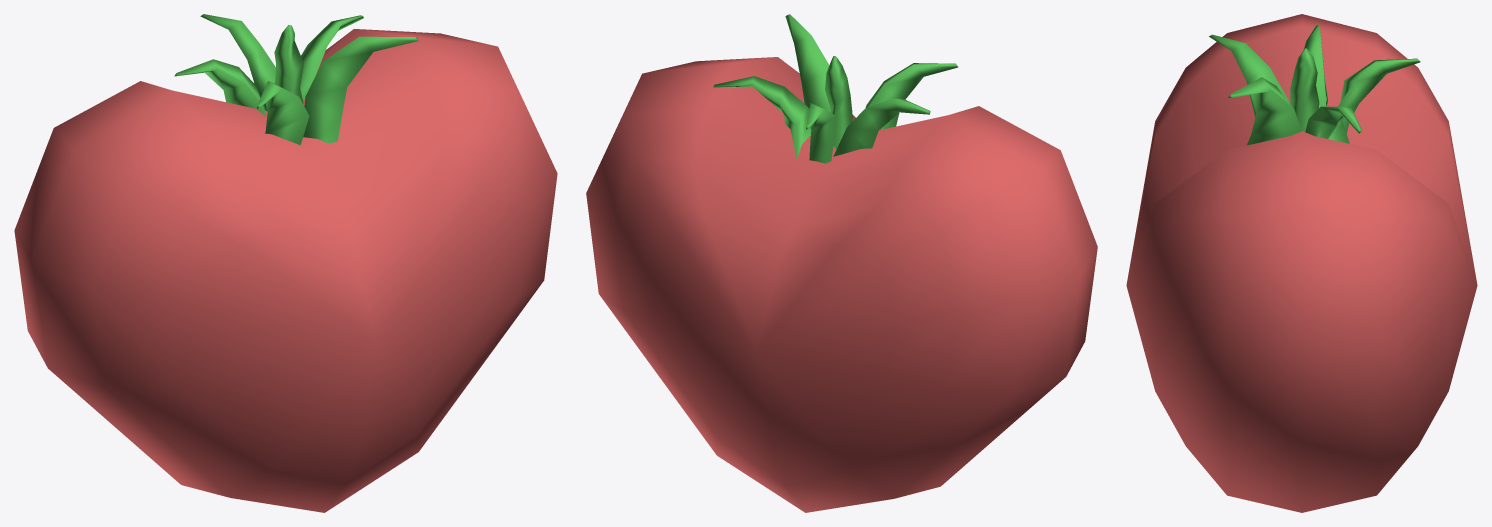
Rendered from HeartSmooth.fbx.
The picture shows the model from 3 angles, left to right: view 1: azimuth 30°, elevation 25°; view 2: azimuth 150°, elevation 25°; view 3: azimuth 270°, elevation 25°; orthographic projection. The views are drawn at different scales.
Visible parts, largest first — view 1: Heart; view 2: Heart; view 3: Heart.
Part boxes in pixels (bbox=[...]): Heart: bbox=[14, 14, 557, 512]; Heart: bbox=[586, 14, 1097, 512]; Heart: bbox=[1126, 14, 1477, 512].
Size of what is drawn, in the model's own units: 0.6053 by 0.5405 by 0.375.
